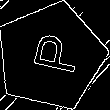P_W: (21, 33, 80, 80)
